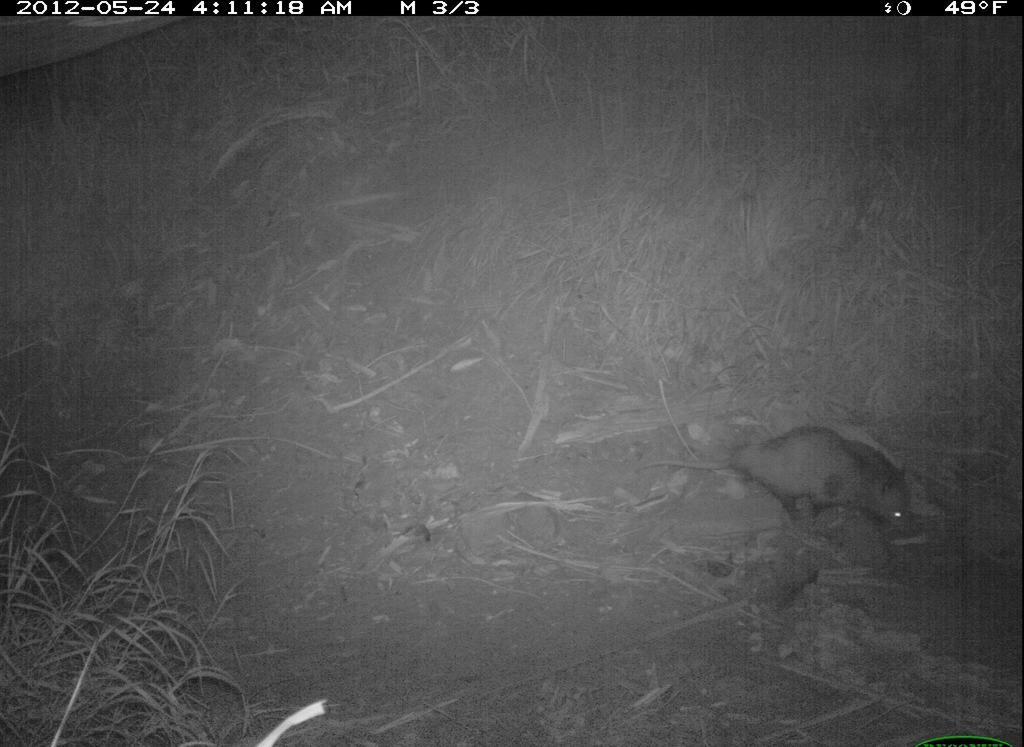opossum: (633, 423, 925, 553)
